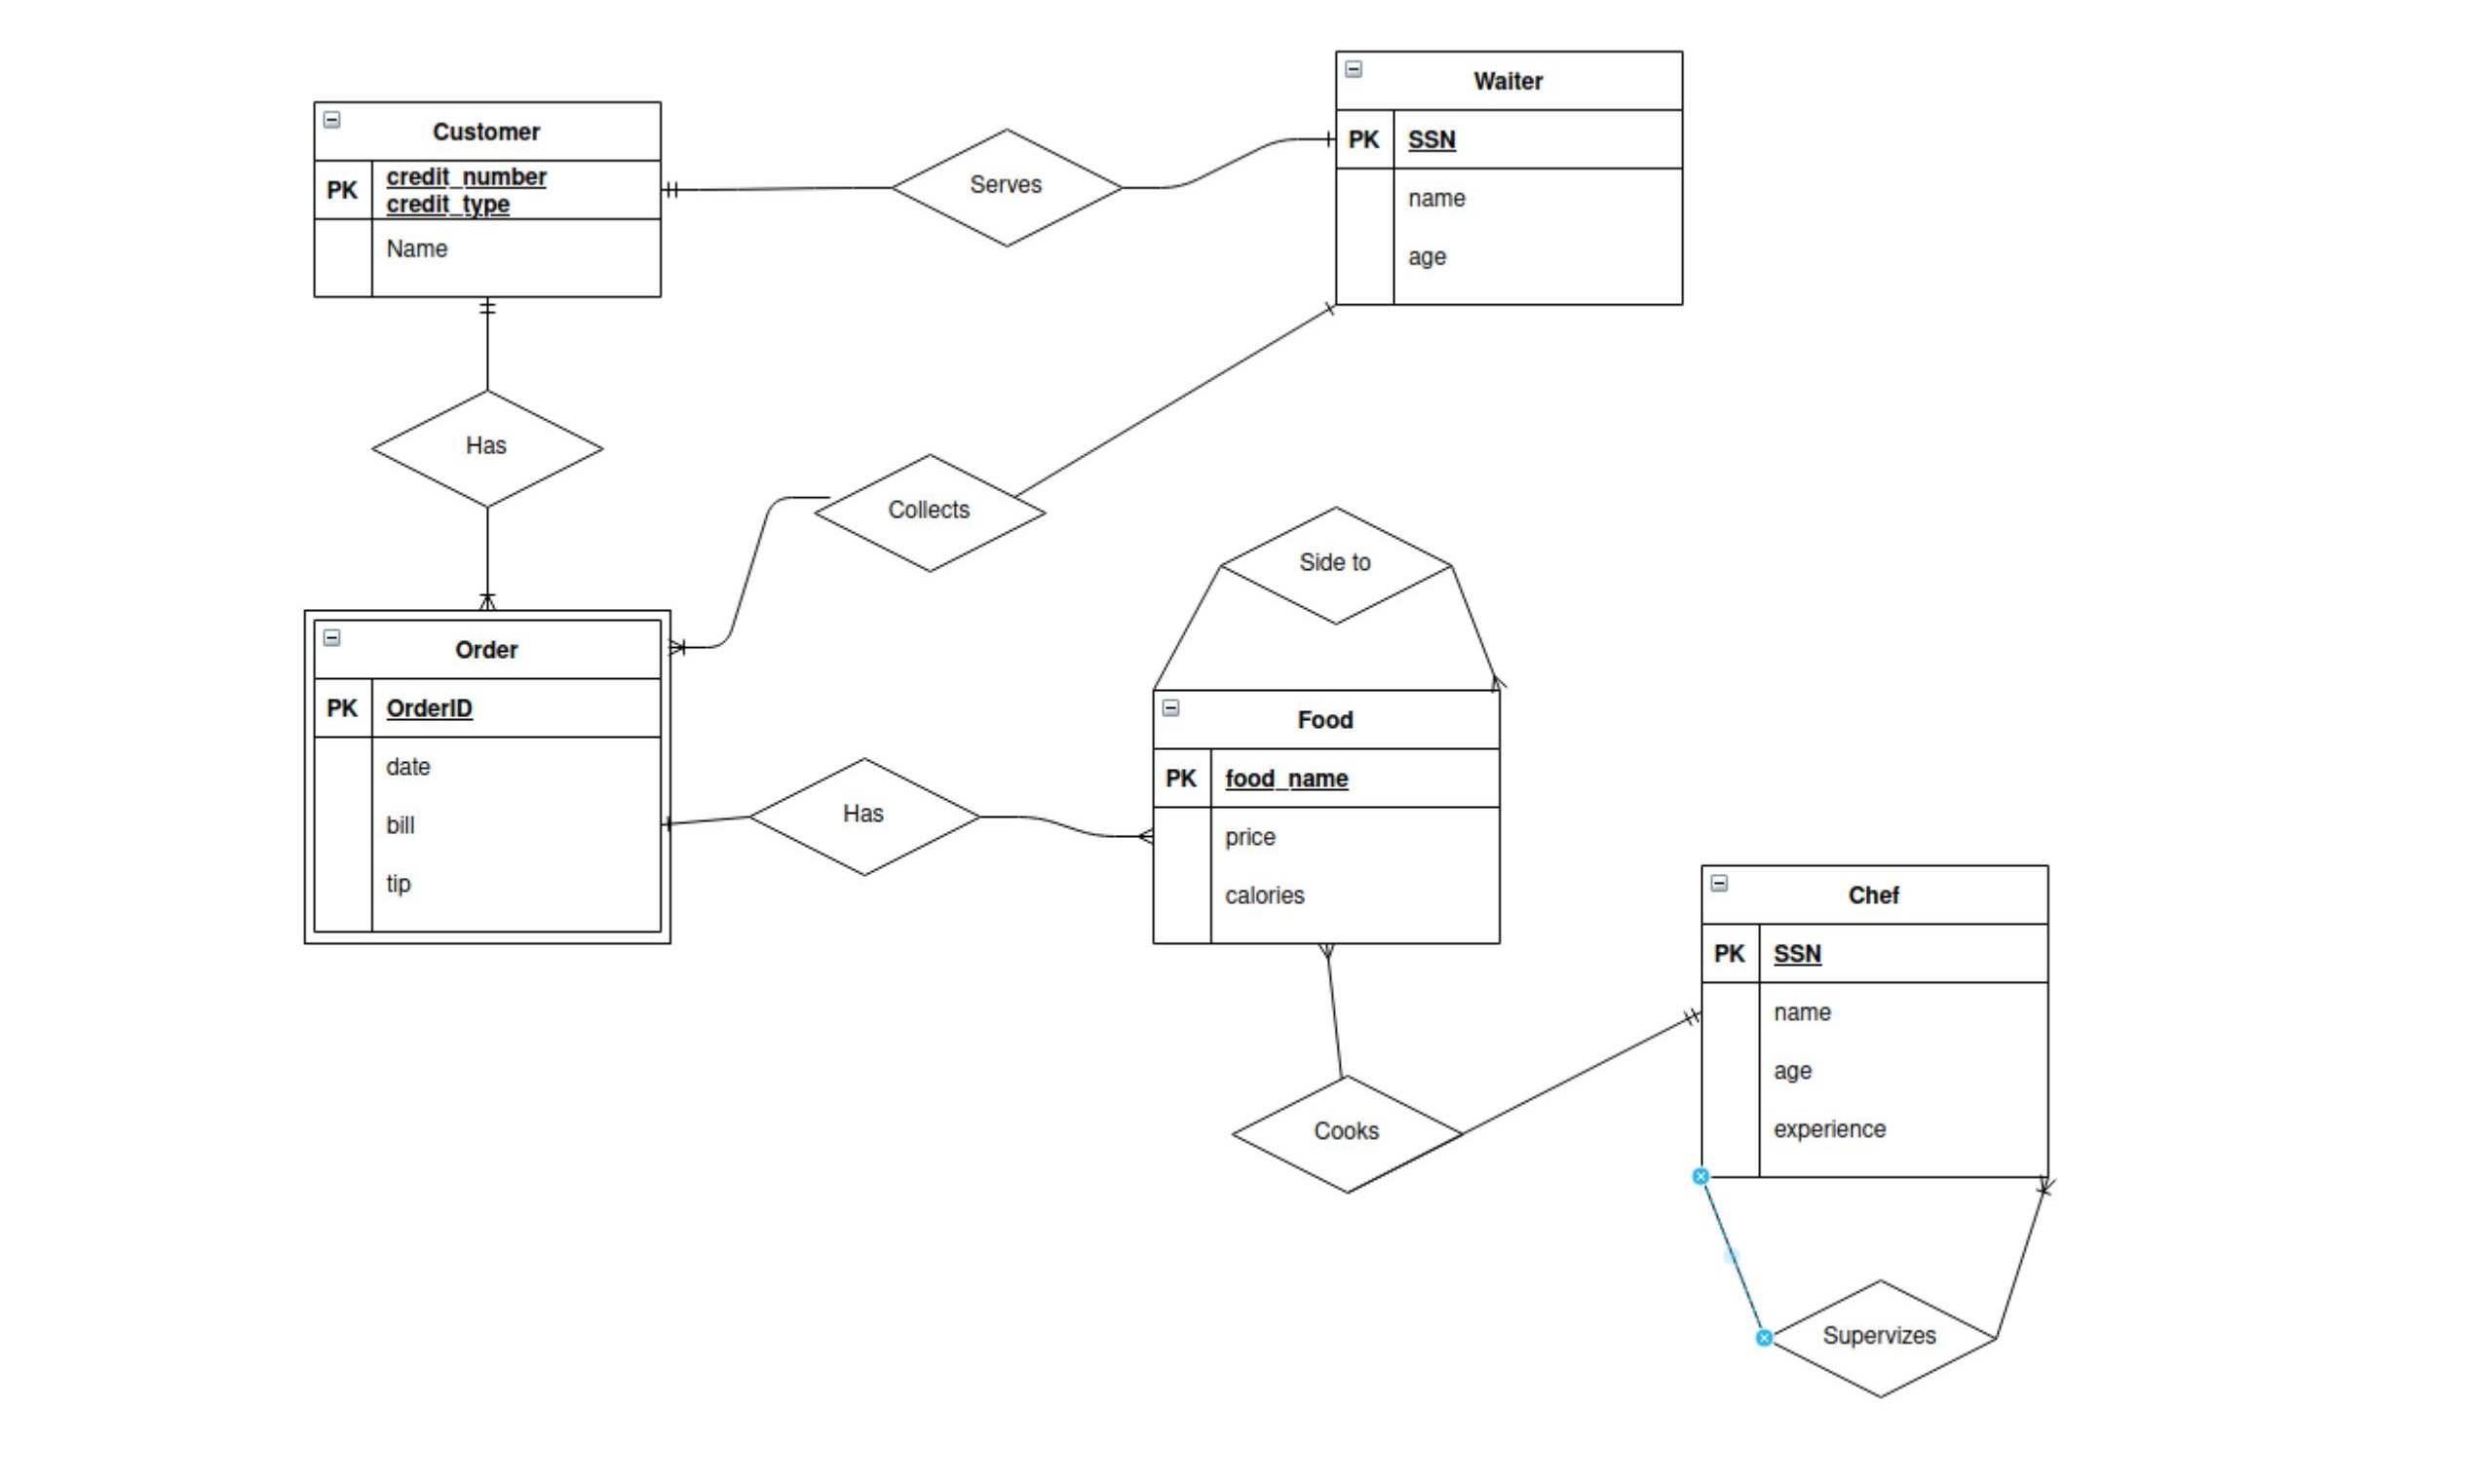Entity: (1698, 862, 2055, 1180), (309, 617, 664, 935), (1148, 687, 1505, 947), (1334, 49, 1687, 309), (311, 99, 666, 302)
Relationship: (1763, 1277, 1998, 1397), (813, 454, 1046, 574), (892, 127, 1122, 247), (1223, 507, 1454, 625), (371, 390, 602, 507), (1231, 1076, 1463, 1192), (751, 758, 979, 876)
